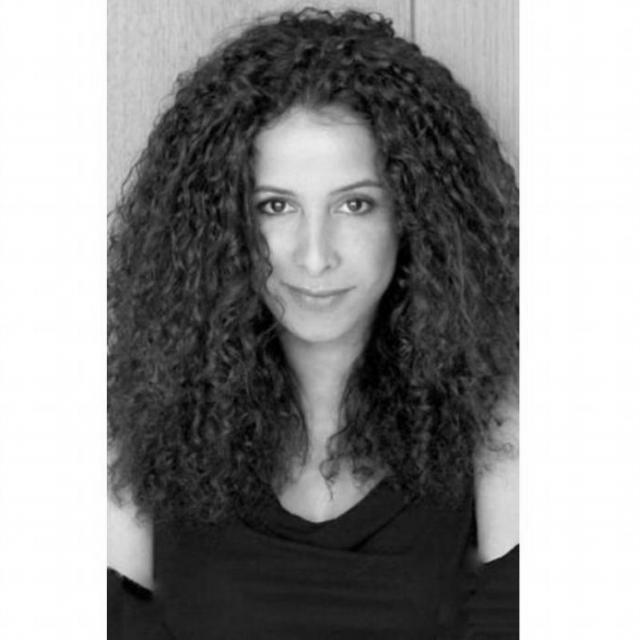real: (215, 100, 403, 344)
